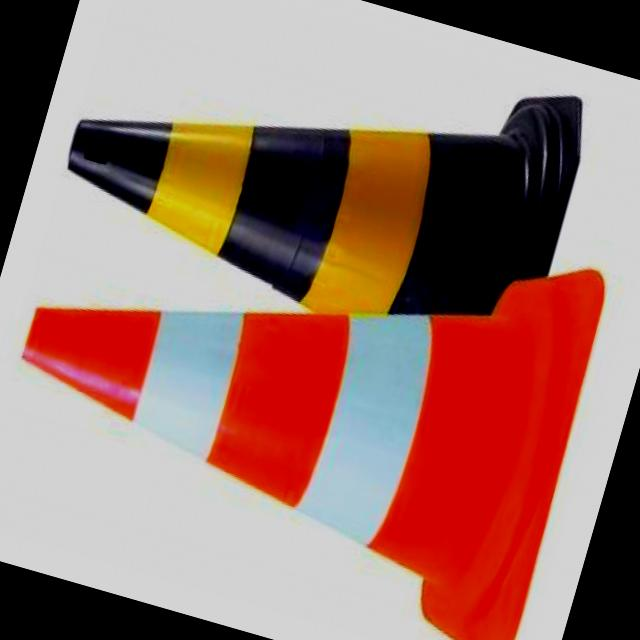cone: (0, 128, 598, 628), (39, 0, 573, 378)
